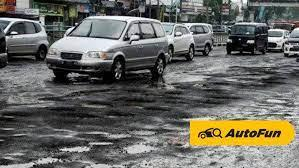Pothole: (1, 139, 116, 168), (36, 124, 161, 136), (122, 135, 159, 158), (38, 91, 112, 102), (33, 99, 86, 113), (192, 93, 244, 107), (157, 94, 196, 110), (166, 75, 193, 96), (113, 93, 151, 107), (47, 112, 100, 122), (258, 90, 290, 106), (0, 107, 32, 122), (103, 108, 137, 120), (240, 78, 274, 90), (138, 104, 173, 115), (199, 77, 231, 88), (228, 61, 272, 69), (164, 114, 203, 123), (0, 124, 20, 138), (78, 101, 112, 109), (240, 70, 267, 80), (259, 77, 288, 84), (274, 63, 299, 71)
